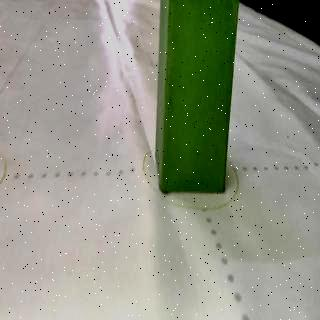greenbox: (154, 0, 240, 194)
